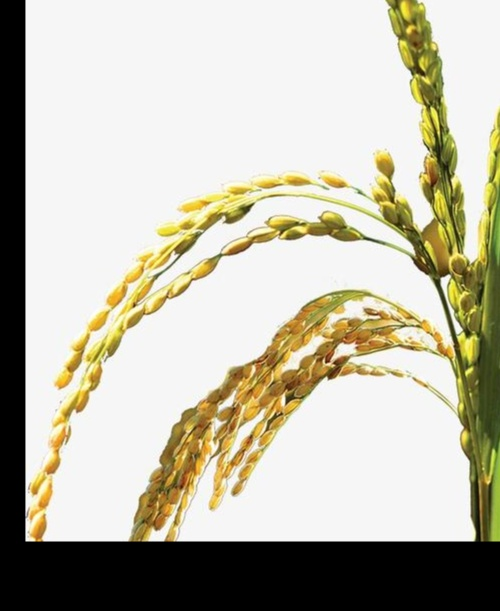rice: (28, 144, 437, 537)
